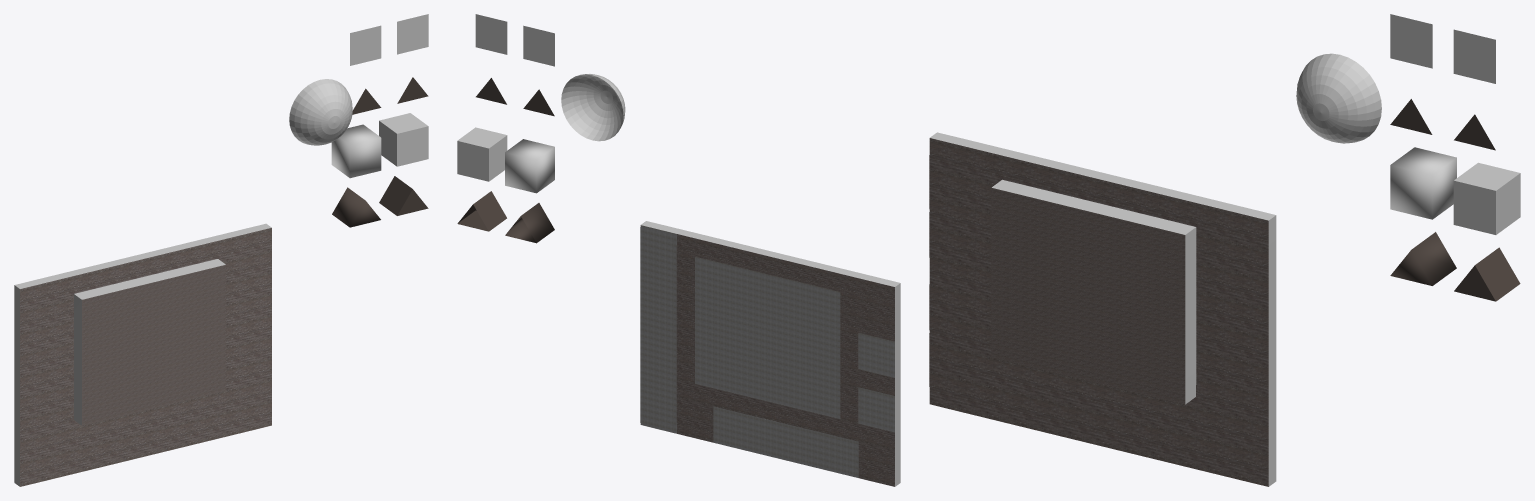
Rendered from workd_interactive.obj.
The picture shows the model from 3 angles, left to right: view 1: azimuth 30°, elevation 25°; view 2: azimuth 150°, elevation 25°; view 3: azimuth 330°, elevation 25°; orthographic projection. The views are drawn at different scales.
Visible parts, largest first — view 1: Walls_Cube_Ceiling, Walls.001_Cube.003_Default, Walls.001_Cube.003_Ceiling, Walls_Cube_WhiteWalkBrick, Walls_Cube_InteriorWall; view 2: Walls_Cube_FloorStoneTiles, Walls_Cube_WoodFloorCorridoor, Walls.001_Cube.003_Default, Walls.001_Cube.003_Ceiling, Walls_Cube_InteriorWall; view 3: Walls_Cube_Ceiling, Walls.001_Cube.003_Default, Walls.001_Cube.003_Ceiling, Walls_Cube_WhiteWalkBrick, Walls_Cube_External, Walls_Cube_InteriorWall.
Part boxes in pixels (bbox=[...]): Walls_Cube_Ceiling: bbox=[20, 228, 271, 486]; Walls.001_Cube.003_Default: bbox=[289, 14, 428, 178]; Walls.001_Cube.003_Ceiling: bbox=[332, 77, 428, 227]; Walls_Cube_WhiteWalkBrick: bbox=[74, 259, 225, 425]; Walls_Cube_InteriorWall: bbox=[14, 232, 235, 486]; Walls_Cube_FloorStoneTiles: bbox=[640, 225, 894, 477]; Walls_Cube_WoodFloorCorridoor: bbox=[676, 234, 894, 486]; Walls.001_Cube.003_Default: bbox=[457, 14, 625, 193]; Walls.001_Cube.003_Ceiling: bbox=[457, 78, 554, 243]; Walls_Cube_InteriorWall: bbox=[677, 229, 900, 486]; Walls_Cube_Ceiling: bbox=[929, 138, 1268, 486]; Walls.001_Cube.003_Default: bbox=[1296, 14, 1520, 234]; Walls.001_Cube.003_Ceiling: bbox=[1390, 99, 1520, 301]; Walls_Cube_WhiteWalkBrick: bbox=[992, 179, 1196, 404]; Walls_Cube_External: bbox=[1220, 203, 1276, 486]; Walls_Cube_InteriorWall: bbox=[930, 132, 1227, 208].
Size of the model in its own units: 132 by 112 by 20.
